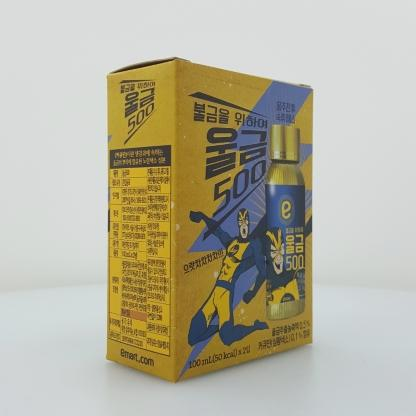----500100ML_2-200ML: (105, 56, 313, 383)
